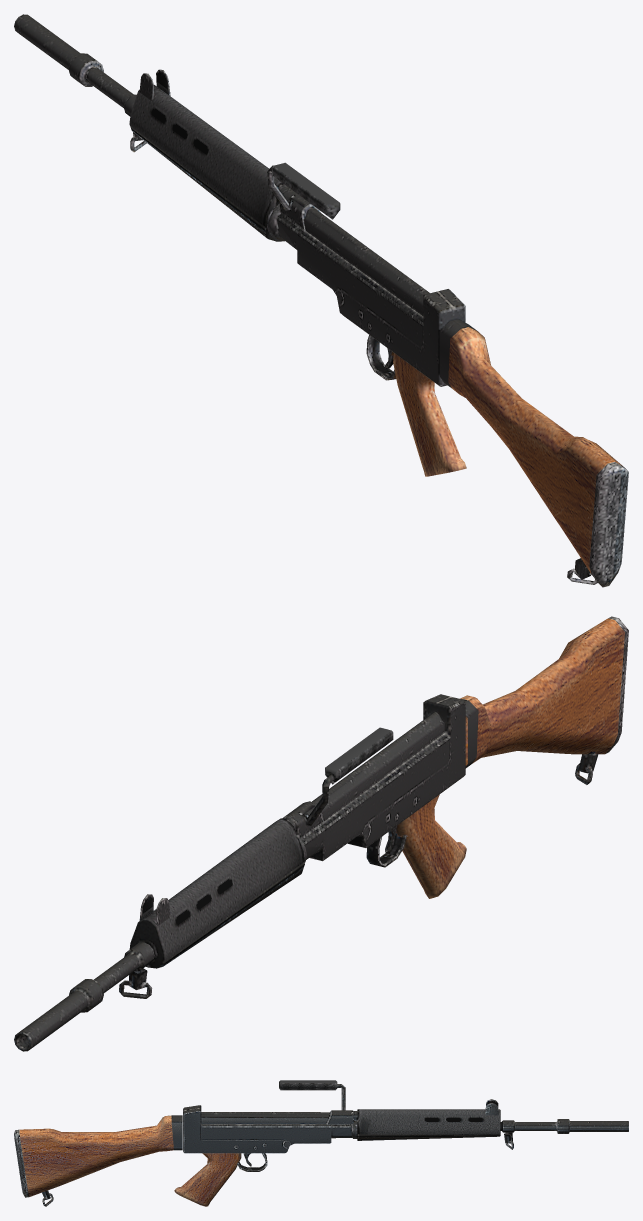
File: FN_FAL.fbx
3 renders of one model, top to bottom at view 1: azimuth 30°, elevation 25°; view 2: azimuth 150°, elevation 25°; view 3: azimuth 270°, elevation 25°, orthographic. The views are drawn at different scales.
Visible parts, largest first — view 1: FN_FAL_LP.001; view 2: FN_FAL_LP.001; view 3: FN_FAL_LP.001.
Boxes of the visible parts, box(x1,y1,x2,y2) form: FN_FAL_LP.001: box(14, 14, 628, 587); FN_FAL_LP.001: box(14, 616, 628, 1051); FN_FAL_LP.001: box(14, 1080, 628, 1206).
Size of the model in its own units: 0.0323 by 0.6114 by 0.1295.
